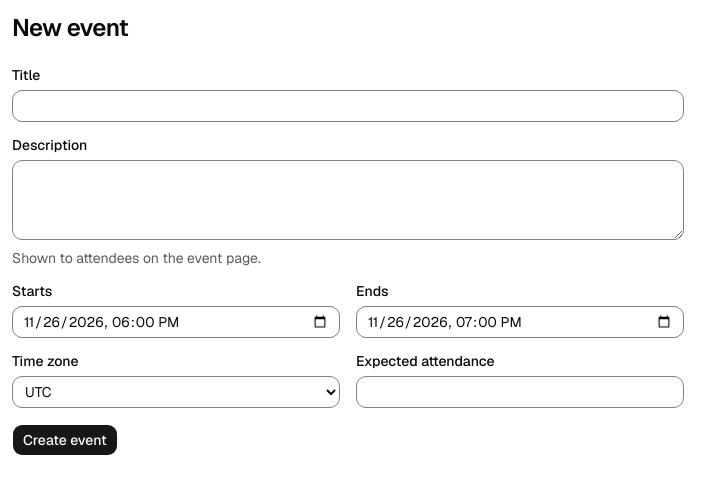
Test: NewEventPage › checks that the end is after the start before sending
The image size is (704, 500).
Step 1. Type "Product launch" into the field labelled "Title" → x=348, y=106, box [12,90,684,122]
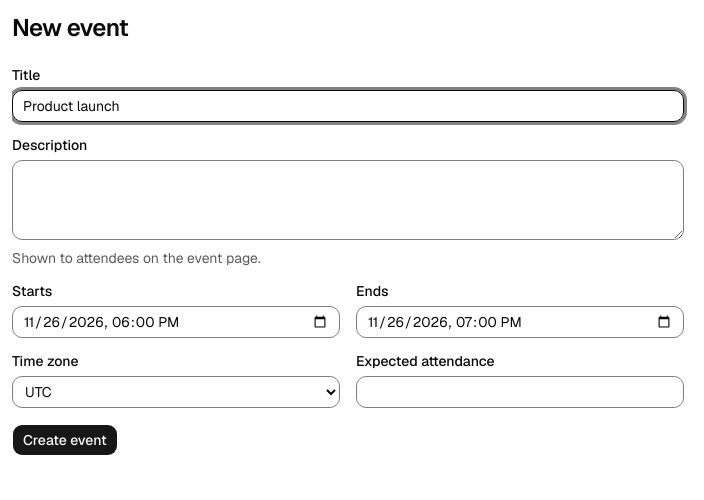
Step 2. Select "Europe/London" in the dropdown labelled "Time zone" → x=176, y=392, box [12,376,340,408]
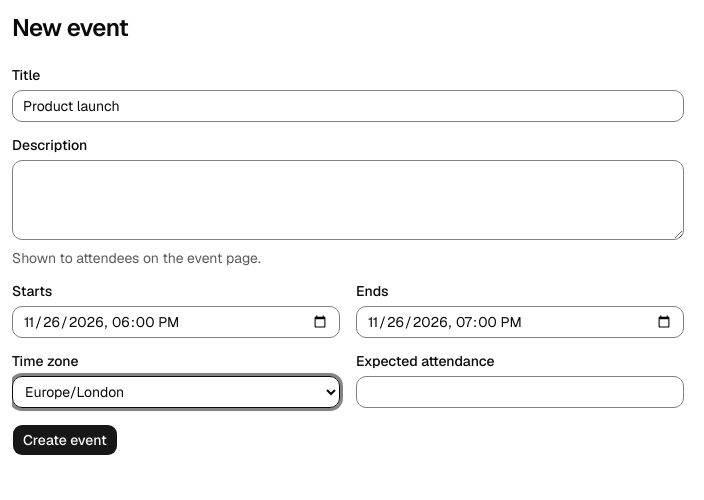
Step 3. Replace the text in the field labelled "Starts" with "2026-07-01T18:00" → x=176, y=322, box [12,306,340,338]
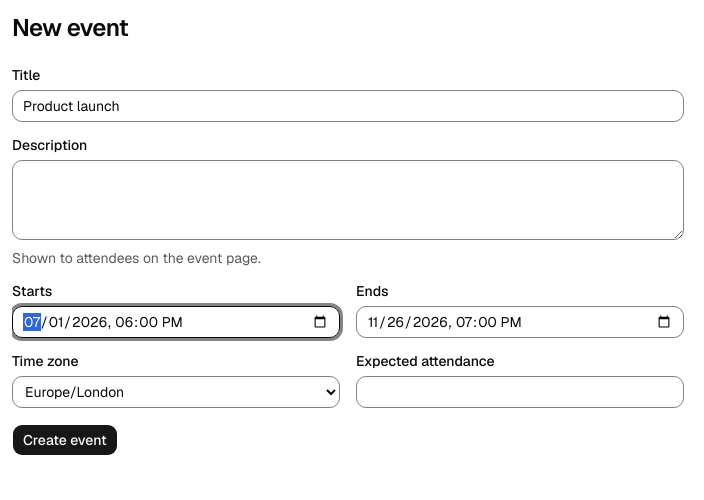
Step 4. Replace the text in the field labelled "Ends" with "2026-07-01T19:30" → x=520, y=322, box [356,306,684,338]
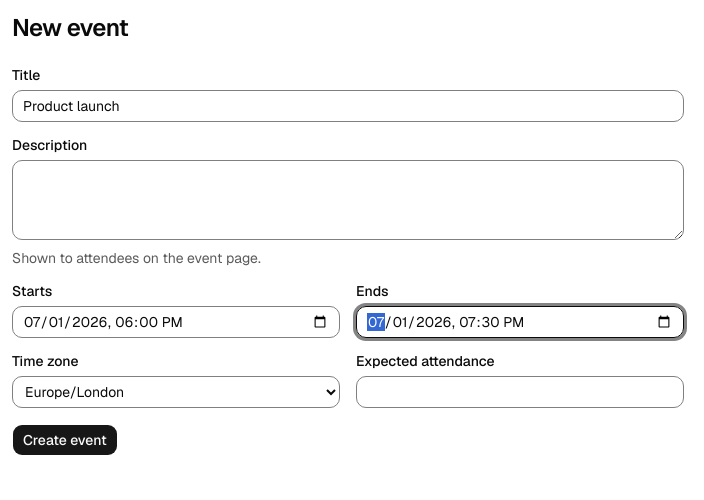
Step 5. Replace the text in the field labelled "Ends" with "2026-07-01T17:00" → x=520, y=322, box [356,306,684,338]
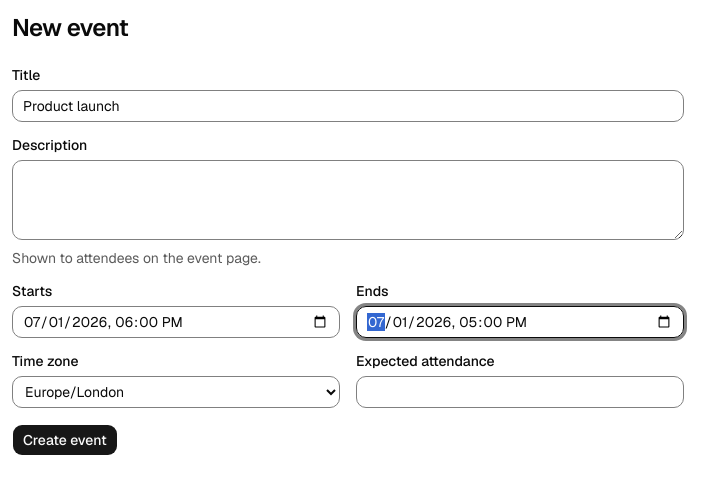
Step 6. Click the button "Create event" → x=65, y=440, box [12,424,118,456]
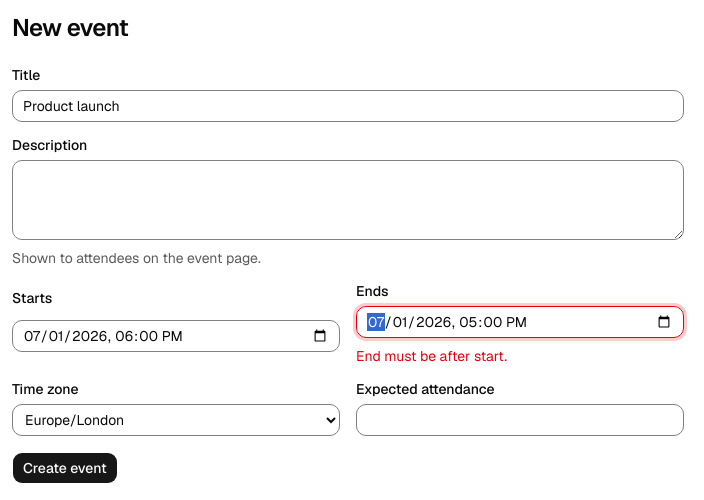
Expected: the text "End must be after start." is shown, [356,347,507,365]
